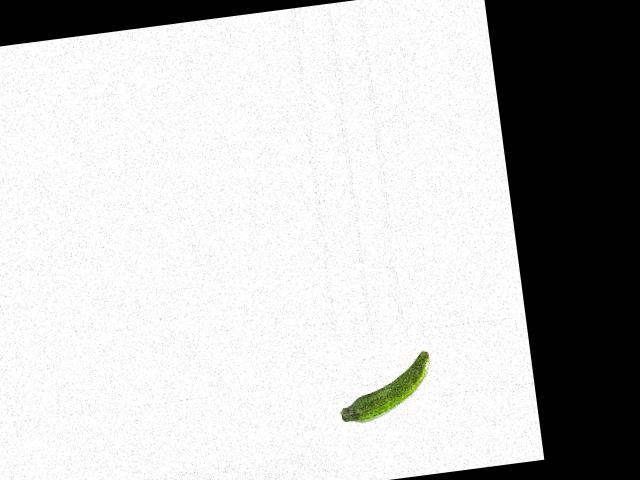cucumber: (332, 349, 436, 425)
